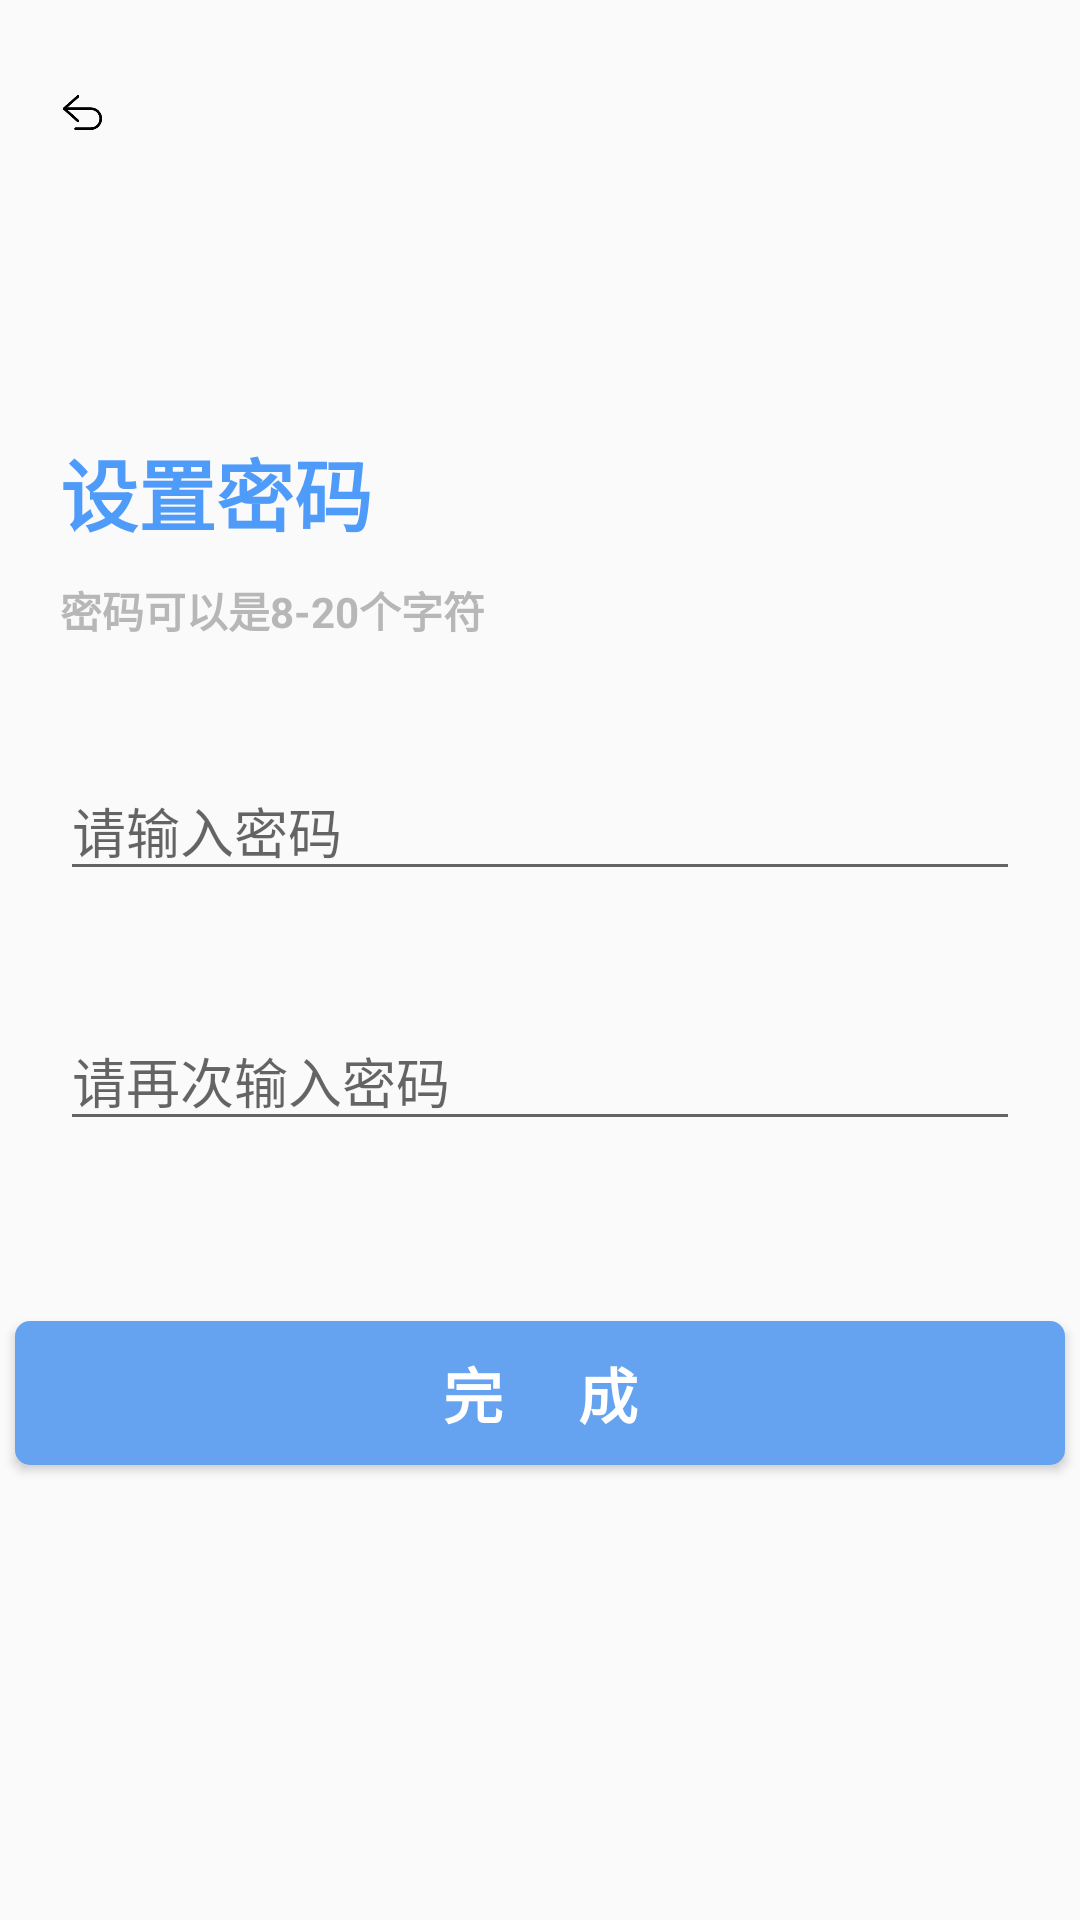

Screen size 1080px×1920px. Icon name, then its center in pixels as [x,y]:
back: [82,112]
